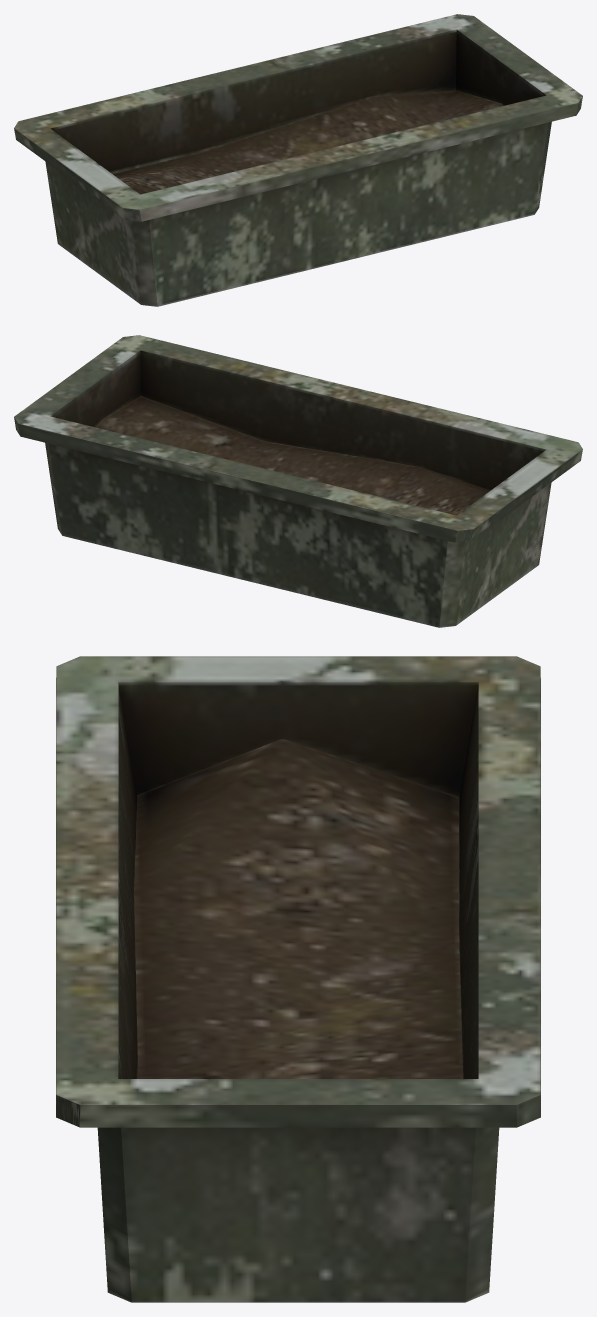
Rendered from Planter.FBX.
3 renders of one model, top to bottom at view 1: azimuth 30°, elevation 25°; view 2: azimuth 150°, elevation 25°; view 3: azimuth 270°, elevation 25°, orthographic. The views are drawn at different scales.
Parts seen in each view (by area): view 1: Planter; view 2: Planter; view 3: Planter.
Boxes of the visible parts, x1,y1,x2,y2 form: Planter: (14, 14, 582, 306); Planter: (14, 335, 582, 627); Planter: (56, 656, 540, 1302).
Bounding box in the file's own units: 89.12 × 21.1 × 40.71.
